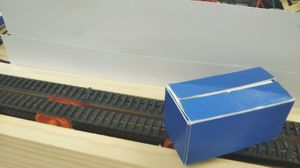box3: (160, 66, 295, 166)
